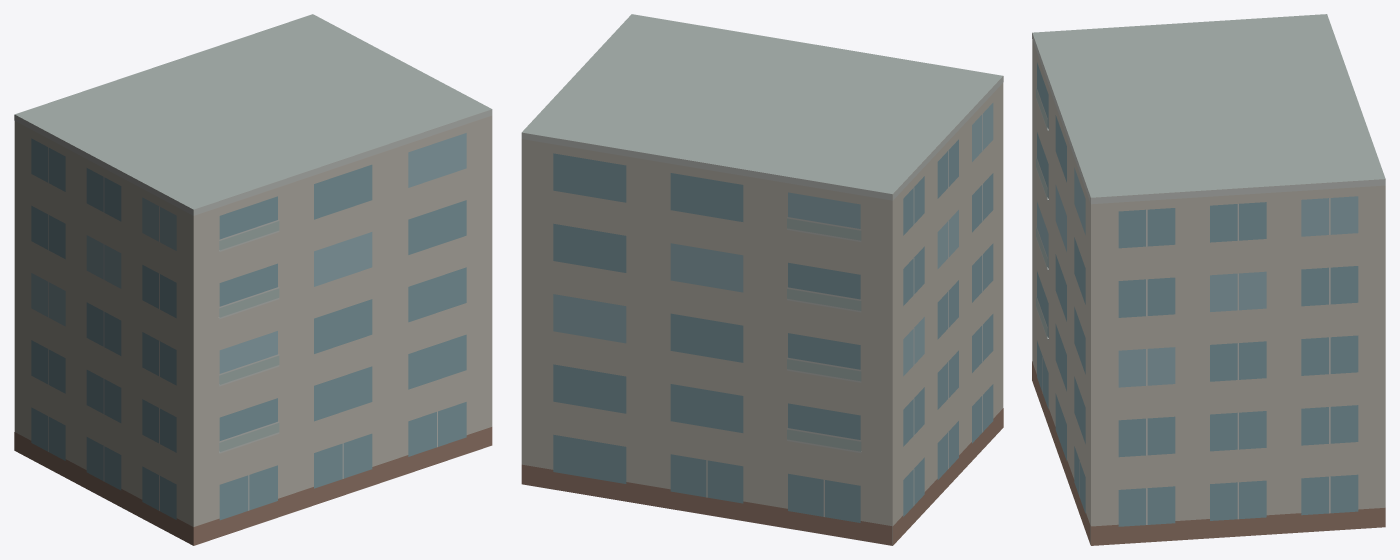
The model's file is survey-upis-32743170.glb.
3 renders of one model, left to right at view 1: azimuth 30°, elevation 25°; view 2: azimuth 150°, elevation 25°; view 3: azimuth 270°, elevation 25°, orthographic. The views are drawn at different scales.
Parts seen in each view (by area): view 1: survey-upis-32743170.tmp; view 2: survey-upis-32743170.tmp; view 3: survey-upis-32743170.tmp.
Part boxes in pixels (bbox=[...]): survey-upis-32743170.tmp: bbox=[14, 14, 492, 545]; survey-upis-32743170.tmp: bbox=[521, 14, 1003, 545]; survey-upis-32743170.tmp: bbox=[1032, 14, 1385, 545].
Bounding box in the file's own units: 14.84 × 13.1 × 12.07.
